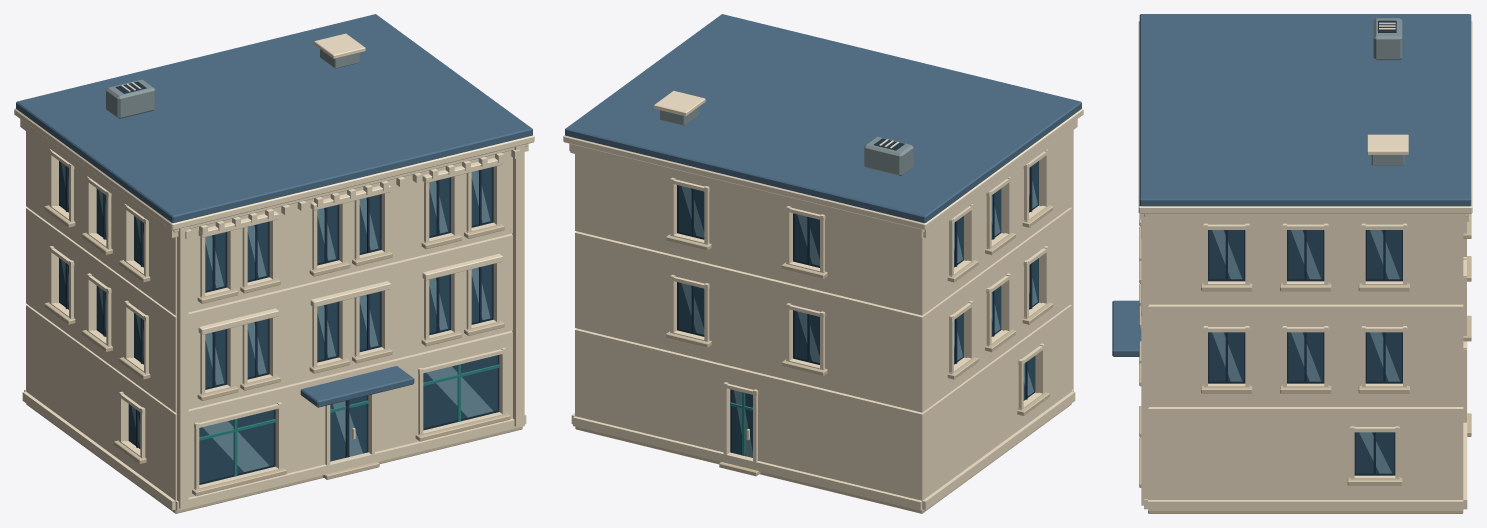
Rendered from slim_cream_tower.glb.
3 renders of one model, left to right at view 1: azimuth 30°, elevation 25°; view 2: azimuth 150°, elevation 25°; view 3: azimuth 270°, elevation 25°, orthographic. The views are drawn at different scales.
Visible parts, largest first — view 1: CreamCityOffice_StaticMesh; view 2: CreamCityOffice_StaticMesh; view 3: CreamCityOffice_StaticMesh.
Part boxes in pixels (<box>): CreamCityOffice_StaticMesh: <box>14,14,534,513</box>; CreamCityOffice_StaticMesh: <box>563,14,1083,513</box>; CreamCityOffice_StaticMesh: <box>1112,14,1472,513</box>.
Size of the model in its own units: 12.32 by 10.63 by 10.05.
